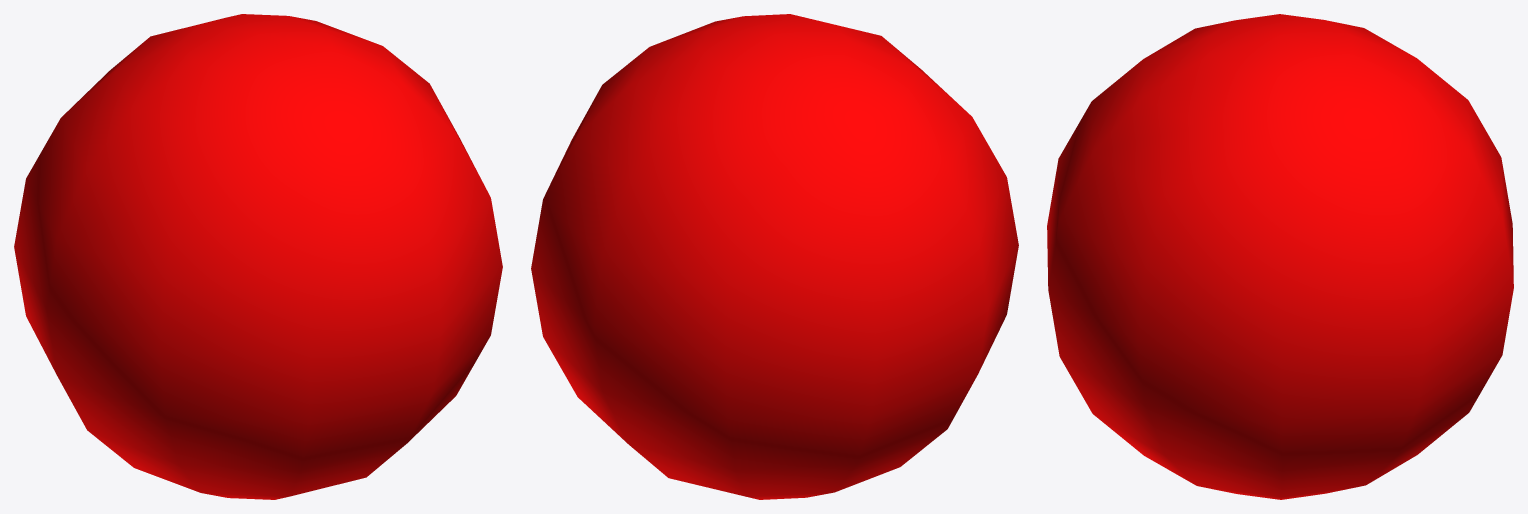
3 views of the same model, side by side, from view 1: azimuth 30°, elevation 25°; view 2: azimuth 150°, elevation 25°; view 3: azimuth 270°, elevation 25° (orthographic).
Bounding box in the file's own units: 120 × 120 × 115.
